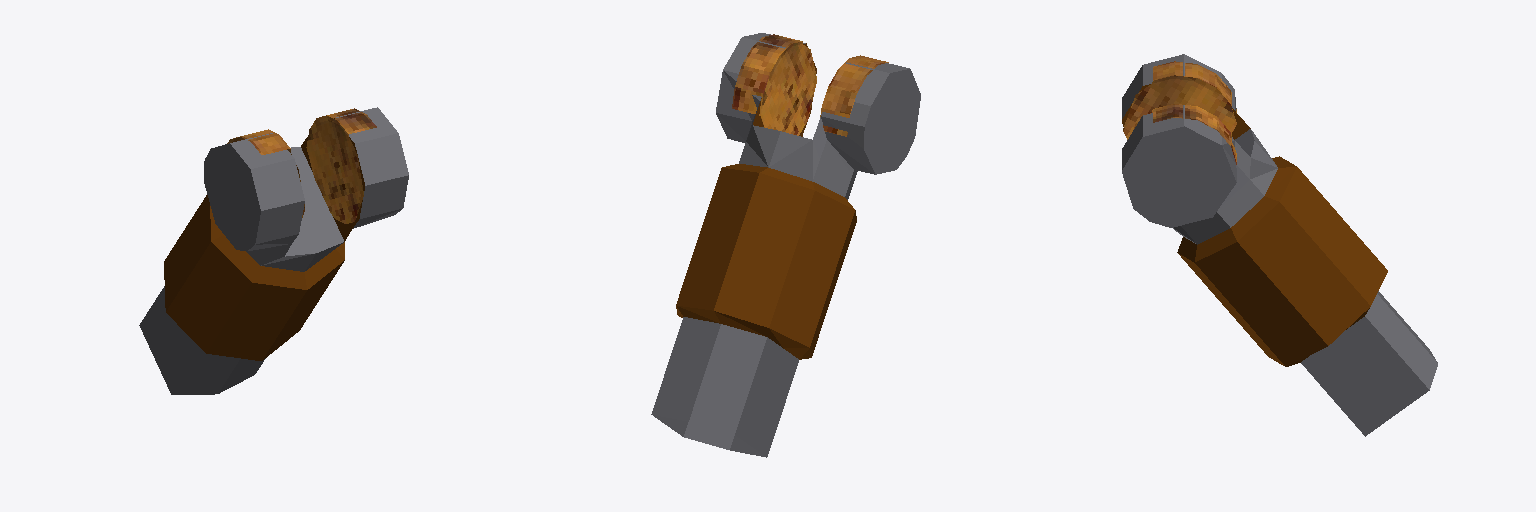
The picture shows the model from 3 angles: view 1: azimuth 30°, elevation 25°; view 2: azimuth 150°, elevation 25°; view 3: azimuth 270°, elevation 25°; orthographic projection.
Visible parts, largest first — view 1: body:neck_lowpolySurface11, body:neck_lowpolySurface43, body:neck_lowpolySurface14, body:neck_lowpolySurface45, body:neck_lowpolySurface19, body:neck_lowpolySurface39, body:neck_lowpolySurface17, body:neck_lowpolySurface12, body:neck_lowpolySurface2, body:neck_lowpolySurface13, body:neck_lowpolySurface47, body:neck_lowpolySurface20; view 2: body:neck_lowpolySurface11, body:neck_lowpolySurface24, body:neck_lowpolySurface13, body:neck_lowpolySurface45, body:neck_lowpolySurface39, body:neck_lowpolySurface19, body:neck_lowpolySurface43, body:neck_lowpolySurface14, body:neck_lowpolySurface20, body:neck_lowpolySurface47, body:neck_lowpolySurface3, body:neck_lowpolySurface2 (+2 smaller); view 3: body:neck_lowpolySurface11, body:neck_lowpolySurface16, body:neck_low, body:neck_lowpolySurface13, body:neck_lowpolySurface46, body:neck_lowpolySurface24, body:neck_lowpolySurface12, body:neck_lowpolySurface14, body:neck_lowpolySurface43, body:neck_lowpolySurface20, body:neck_lowpolySurface47.
Part boxes in pixels (left/top/right/bottom): body:neck_lowpolySurface11: left=164, top=195, right=344, bottom=360; body:neck_lowpolySurface43: left=230, top=133, right=304, bottom=250; body:neck_lowpolySurface14: left=336, top=107, right=408, bottom=228; body:neck_lowpolySurface45: left=204, top=143, right=260, bottom=250; body:neck_lowpolySurface19: left=306, top=115, right=363, bottom=223; body:neck_lowpolySurface39: left=139, top=286, right=200, bottom=394; body:neck_lowpolySurface17: left=285, top=147, right=343, bottom=256; body:neck_lowpolySurface12: left=210, top=206, right=344, bottom=289; body:neck_lowpolySurface2: left=172, top=349, right=265, bottom=394; body:neck_lowpolySurface13: left=246, top=242, right=343, bottom=271; body:neck_lowpolySurface47: left=227, top=129, right=290, bottom=154; body:neck_lowpolySurface20: left=327, top=108, right=376, bottom=133; body:neck_lowpolySurface11: left=676, top=168, right=856, bottom=356; body:neck_lowpolySurface24: left=651, top=317, right=766, bottom=434; body:neck_lowpolySurface13: left=739, top=103, right=857, bottom=199; body:neck_lowpolySurface45: left=864, top=69, right=920, bottom=174; body:neck_lowpolySurface39: left=735, top=337, right=798, bottom=456; body:neck_lowpolySurface19: left=761, top=41, right=816, bottom=135; body:neck_lowpolySurface43: left=821, top=62, right=909, bottom=174; body:neck_lowpolySurface14: left=716, top=33, right=805, bottom=142; body:neck_lowpolySurface20: left=735, top=34, right=801, bottom=93; body:neck_lowpolySurface47: left=822, top=55, right=888, bottom=114; body:neck_lowpolySurface3: left=676, top=306, right=811, bottom=359; body:neck_lowpolySurface2: left=684, top=422, right=766, bottom=457; body:neck_lowpolySurface11: left=1178, top=167, right=1387, bottom=366; body:neck_lowpolySurface16: left=1122, top=126, right=1236, bottom=227; body:neck_low: left=1301, top=317, right=1429, bottom=436; body:neck_lowpolySurface13: left=1173, top=130, right=1277, bottom=244; body:neck_lowpolySurface46: left=1123, top=75, right=1236, bottom=139; body:neck_lowpolySurface24: left=1365, top=291, right=1437, bottom=389; body:neck_lowpolySurface12: left=1177, top=156, right=1296, bottom=262; body:neck_lowpolySurface14: left=1122, top=105, right=1236, bottom=181; body:neck_lowpolySurface43: left=1122, top=54, right=1236, bottom=118; body:neck_lowpolySurface20: left=1153, top=104, right=1230, bottom=145; body:neck_lowpolySurface47: left=1153, top=61, right=1230, bottom=103.
Bounding box in the file's own units: 34.93 × 75.03 × 64.72.
Materials: 3 (1 with a texture image).